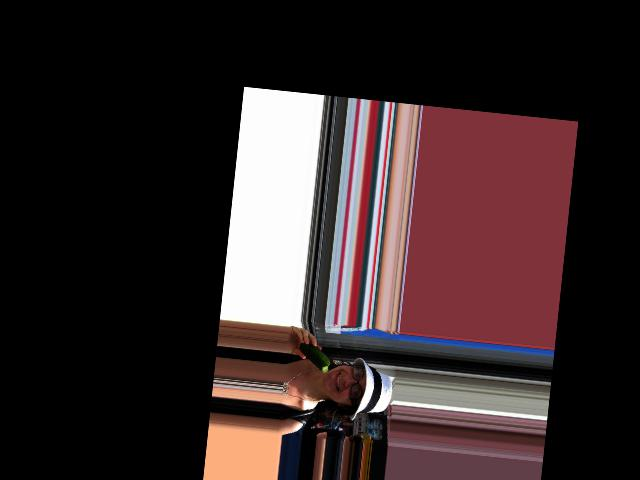cucumber: (297, 341, 331, 372)
